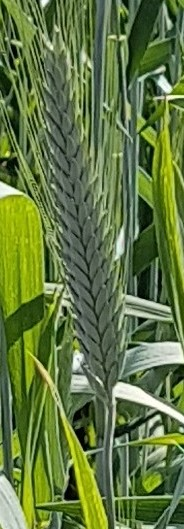Healthy Wheat: (33, 35, 128, 392)
